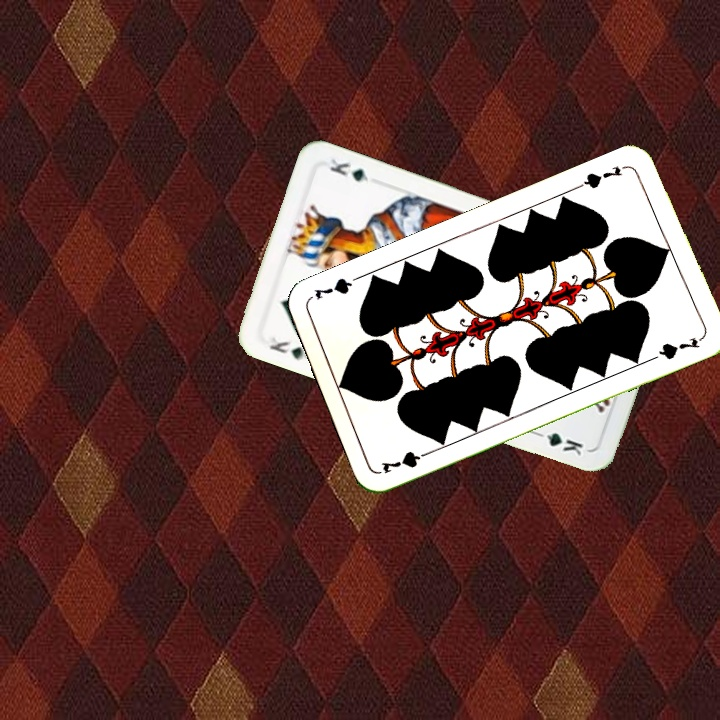G7: (377, 446, 436, 477), (575, 161, 631, 191)
GK: (265, 332, 311, 363)
